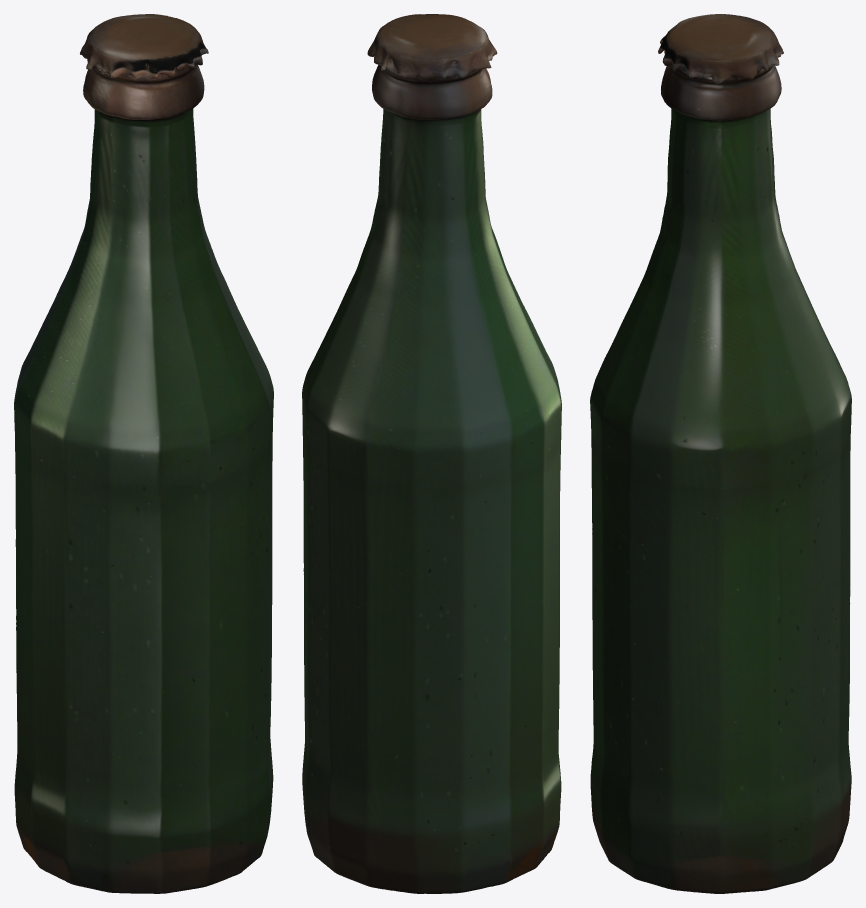
The model's file is 3dvidrio.fbx.
The picture shows the model from 3 angles, left to right: view 1: azimuth 30°, elevation 25°; view 2: azimuth 150°, elevation 25°; view 3: azimuth 270°, elevation 25°; orthographic projection.
Parts seen in each view (by area): view 1: Mesh1.0; view 2: Mesh1.0; view 3: Mesh1.0.
Boxes of the visible parts, bbox=[...] form: Mesh1.0: bbox=[14, 14, 273, 893]; Mesh1.0: bbox=[302, 14, 561, 893]; Mesh1.0: bbox=[590, 14, 851, 893].
Size of the model in its own units: 57.24 by 200 by 57.27.
1 material, 1 textured.
